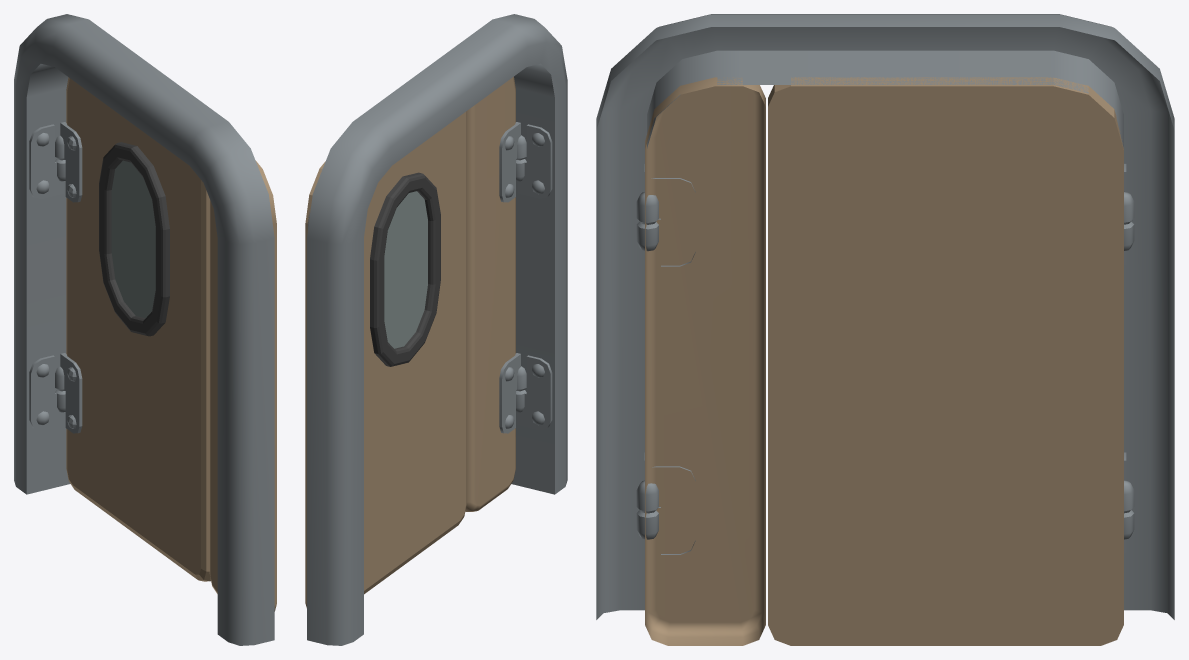
Rendered from SM_door_1.fbx.
3 renders of one model, left to right at view 1: azimuth 30°, elevation 25°; view 2: azimuth 150°, elevation 25°; view 3: azimuth 270°, elevation 25°, orthographic. The views are drawn at different scales.
Visible parts, largest first — view 1: DoorBase, DoorOpen; view 2: DoorBase, DoorOpen; view 3: DoorOpen, DoorBase.
Part boxes in pixels (left/top/right/bottom): DoorBase: left=14, top=14, right=276, bottom=645; DoorOpen: left=60, top=77, right=210, bottom=581; DoorBase: left=307, top=14, right=567, bottom=645; DoorOpen: left=305, top=111, right=466, bottom=607; DoorOpen: left=768, top=77, right=1123, bottom=645; DoorBase: left=596, top=14, right=1174, bottom=645.
Bounding box in the file's own units: 32.05 × 254 × 219.
